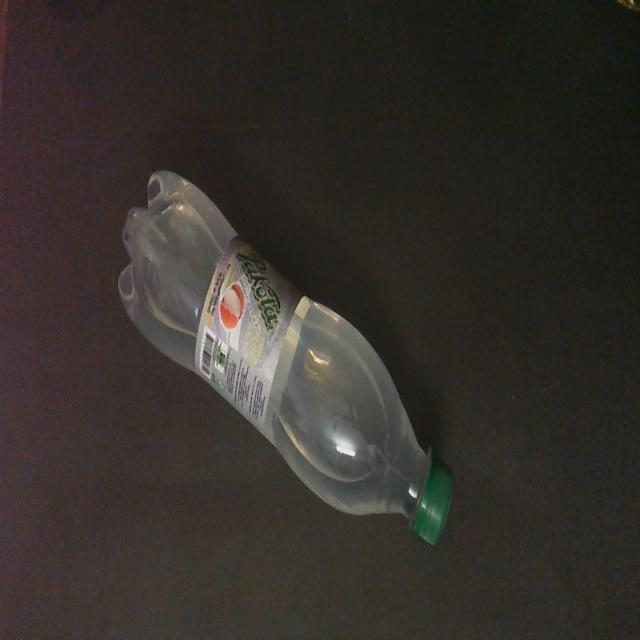non-defect: (116, 167, 455, 550)
